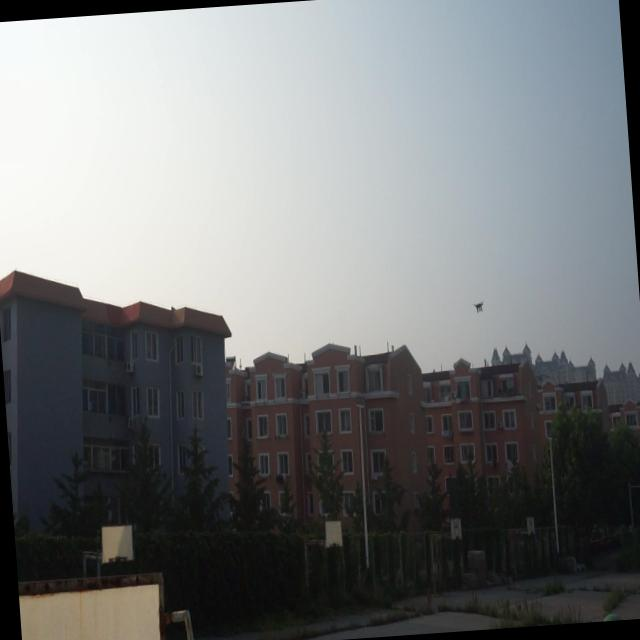drone: (472, 297, 486, 313)
